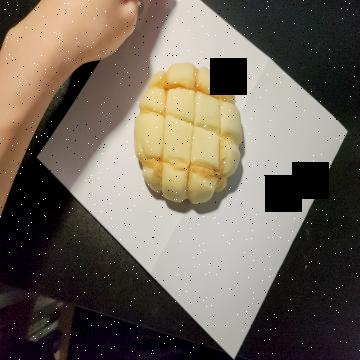melon_bread: (136, 63, 242, 205)
